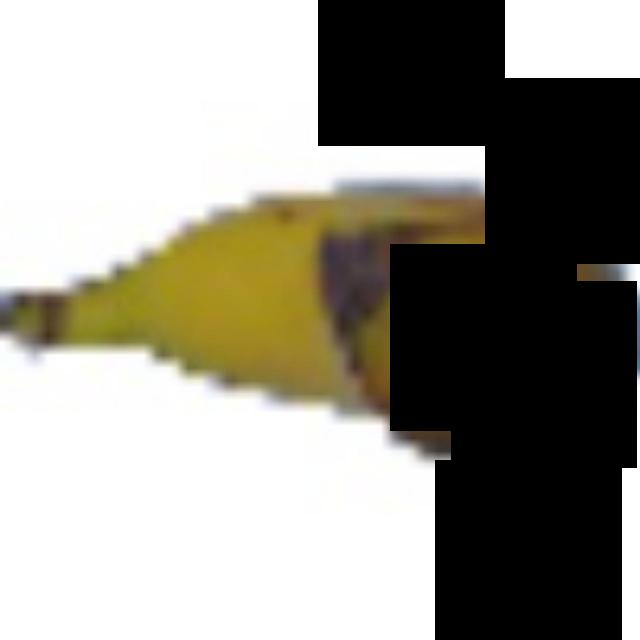banana: (6, 173, 634, 473)
